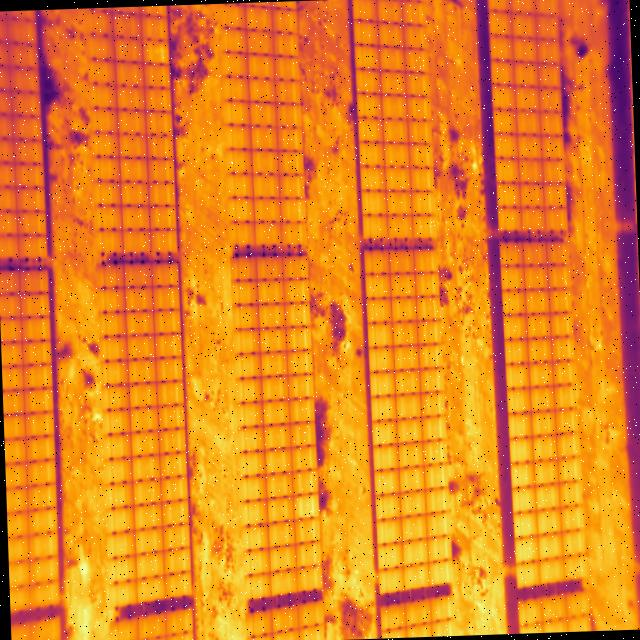Hotspot: (293, 494, 318, 516)
